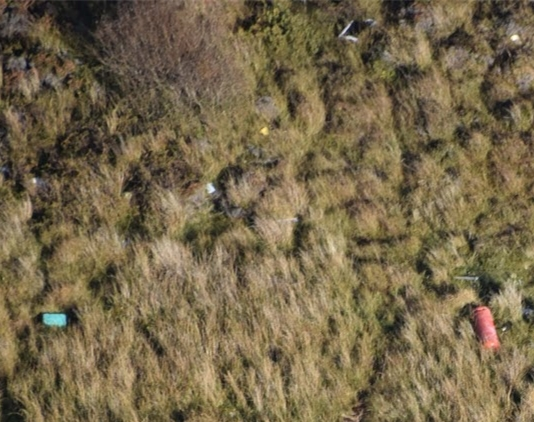scattered_barrel: (24, 120, 515, 359), (190, 115, 288, 206)
white_in_green: (436, 277, 533, 372), (15, 283, 92, 351), (491, 13, 534, 56)
